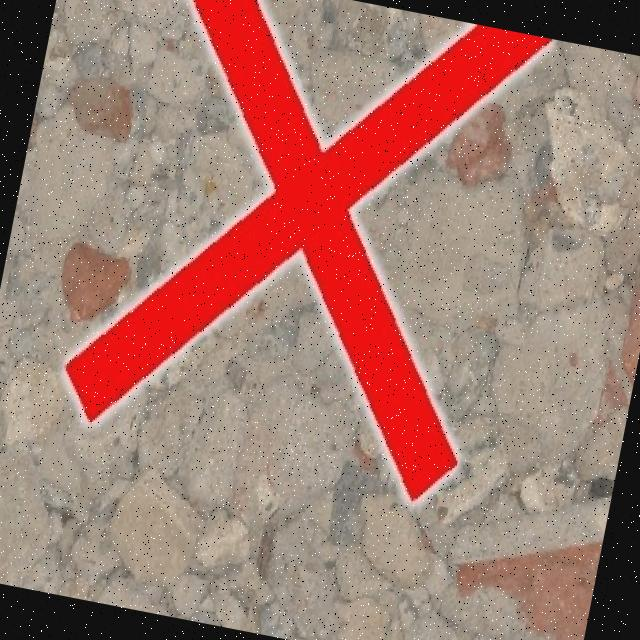x_marker: (53, 0, 551, 510)
